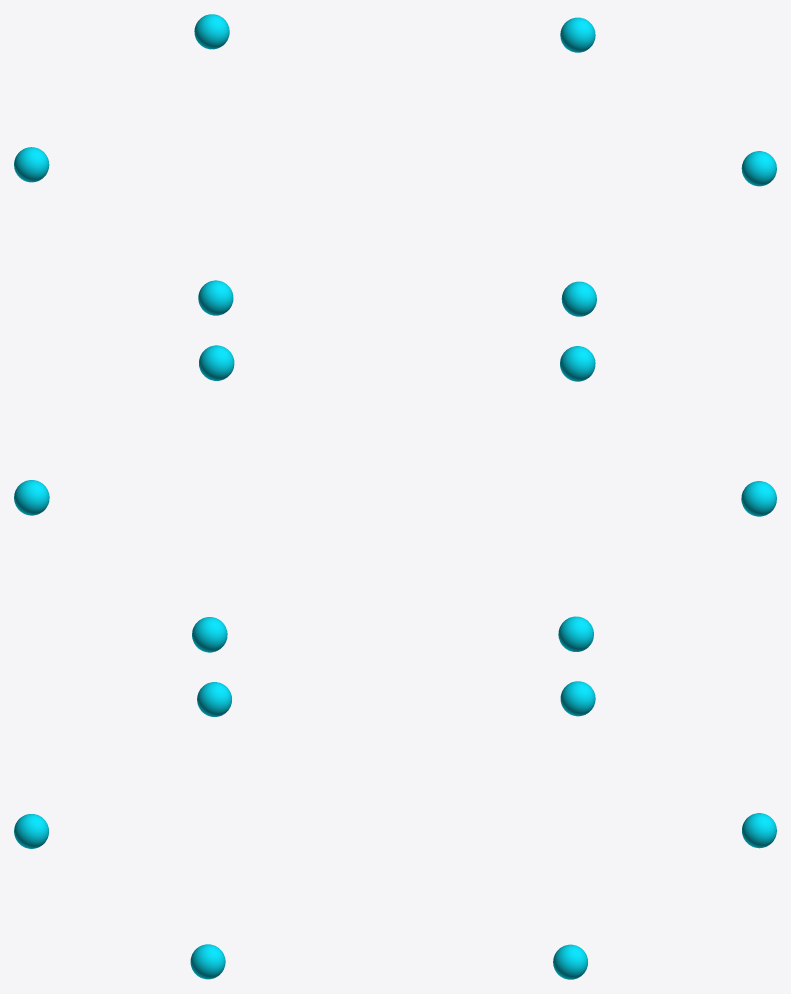
3 views of the same model, one above another, from view 1: azimuth 30°, elevation 25°; view 2: azimuth 150°, elevation 25°; view 3: azimuth 270°, elevation 25° (orthographic).
Parts seen in each view (by area): view 1: Sphere050; view 2: Sphere050; view 3: Sphere050.
Boxes of the visible parts, box(x1,y1,x2,y2) form: Sphere050: box(14, 14, 776, 316); Sphere050: box(14, 345, 776, 652); Sphere050: box(14, 681, 776, 979).
Size of the model in its own units: 154 by 8.22 by 178.
